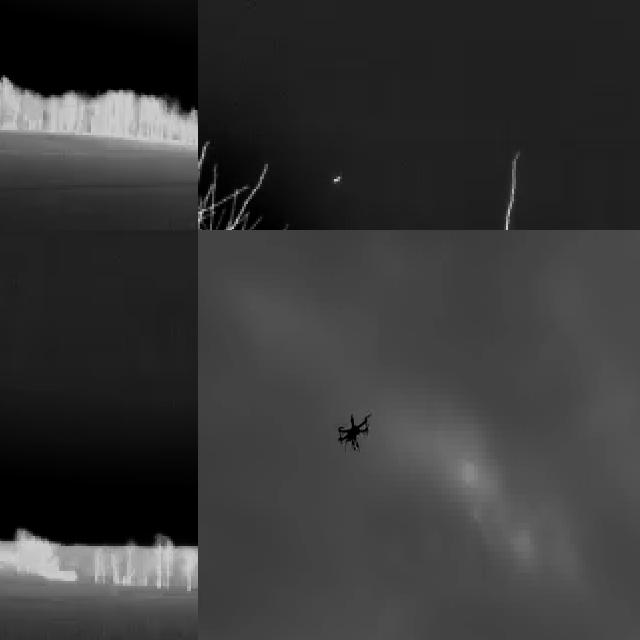0: (325, 167, 353, 199)
drone: (330, 402, 370, 448)
